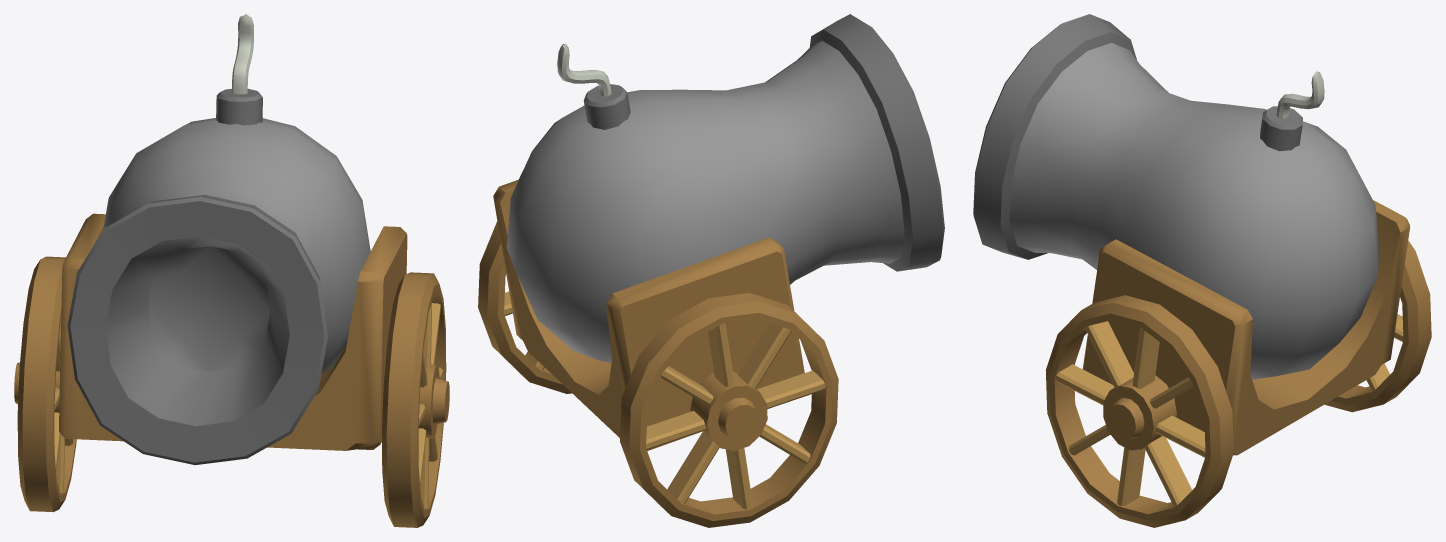
The model's file is Cannon.fbx.
3 renders of one model, left to right at view 1: azimuth 30°, elevation 25°; view 2: azimuth 150°, elevation 25°; view 3: azimuth 270°, elevation 25°, orthographic. The views are drawn at different scales.
Visible parts, largest first — view 1: Cannon; view 2: Cannon; view 3: Cannon.
Part boxes in pixels (<box>): Cannon: <box>14,14,449,527</box>; Cannon: <box>478,14,944,527</box>; Cannon: <box>973,14,1431,527</box>.
Size of the model in its own units: 303 by 303 by 303.
